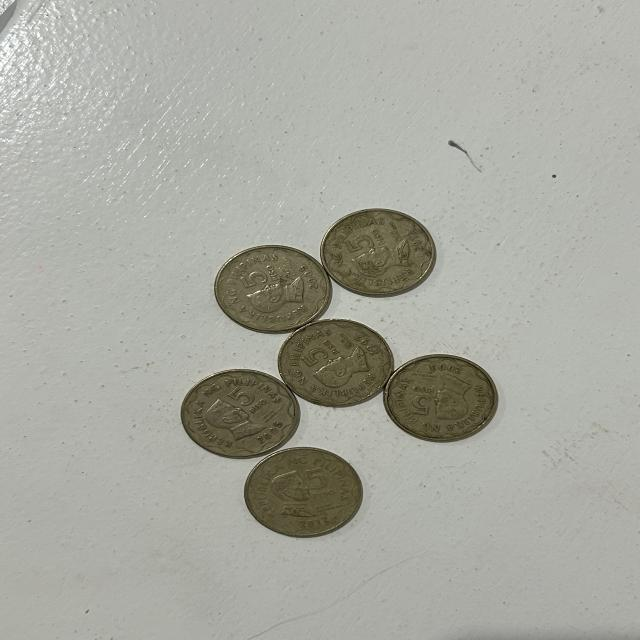5_Old_Front: (234, 260, 284, 293), (303, 468, 339, 505), (295, 342, 342, 368), (348, 226, 391, 254), (226, 383, 264, 413), (409, 386, 441, 416)
